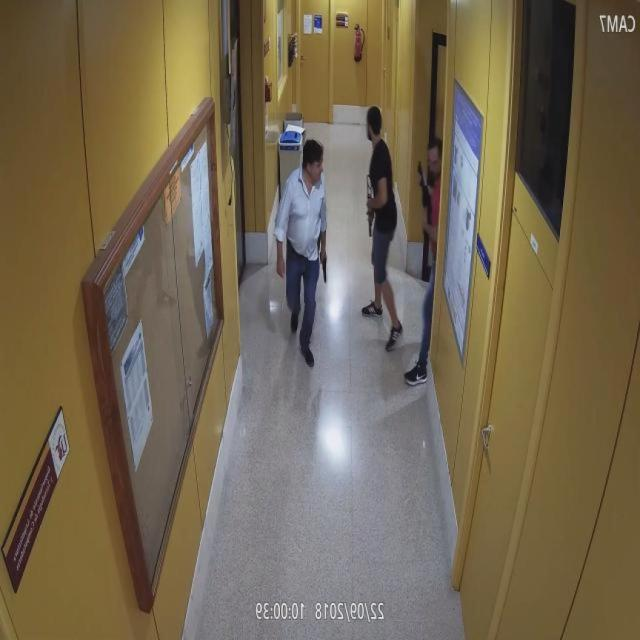pistol: (320, 250, 328, 282)
